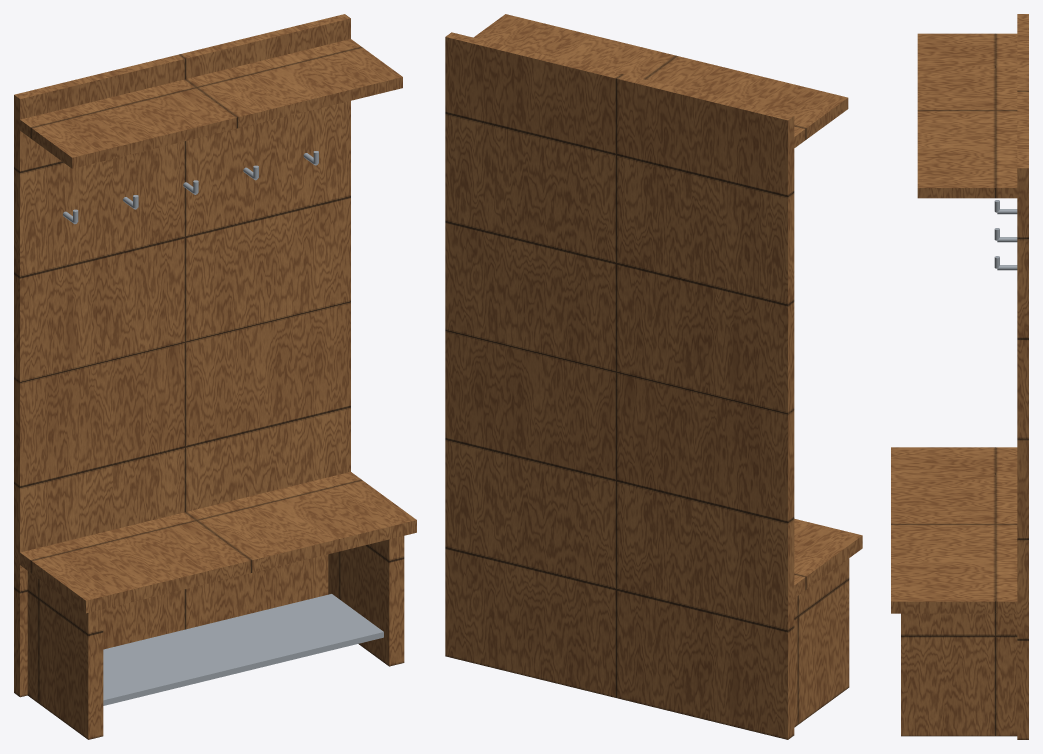
The model's file is Eloszobafal_akasztos.obj.
The picture shows the model from 3 angles, left to right: view 1: azimuth 30°, elevation 25°; view 2: azimuth 150°, elevation 25°; view 3: azimuth 270°, elevation 25°; orthographic projection. The views are drawn at different scales.
Size of the model in its own units: 1.1 by 1.9 by 0.415.
Materials: 2 (1 with a texture image).
